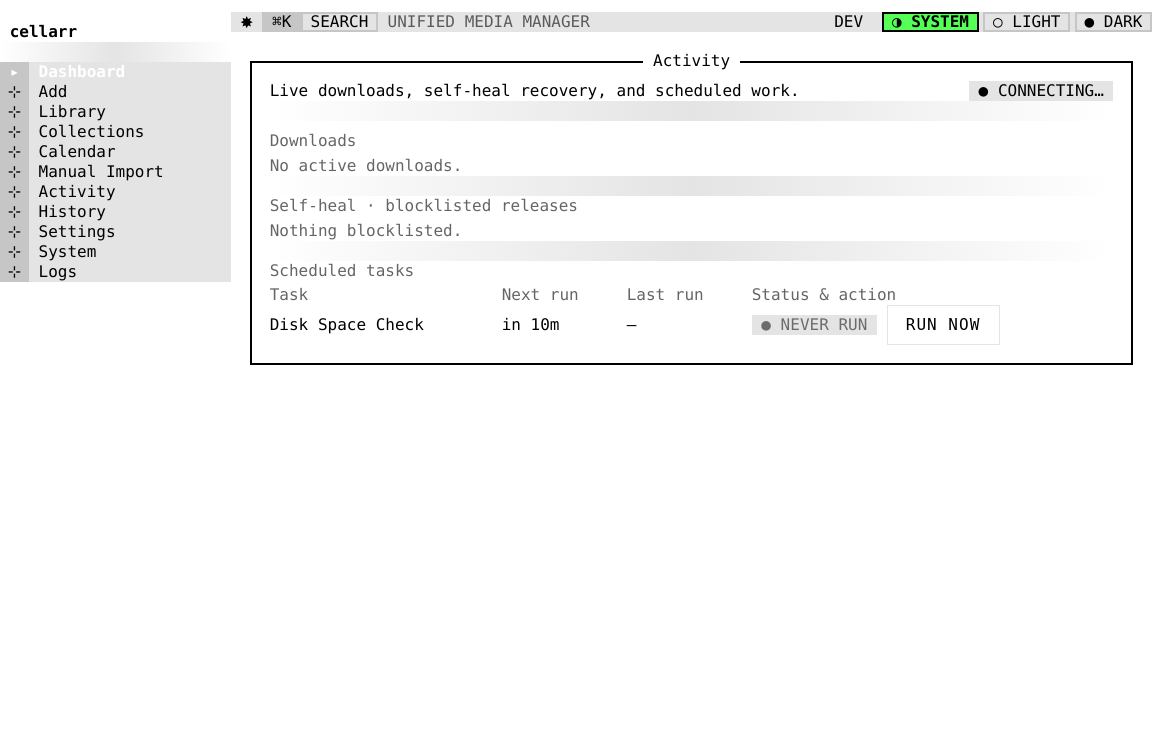
Scenario: Activity screen › runs a task via POST /command and toasts on success
The image size is (1152, 732).
Click the button "Run now".
click(943, 325)  # box [887,305,1000,345]
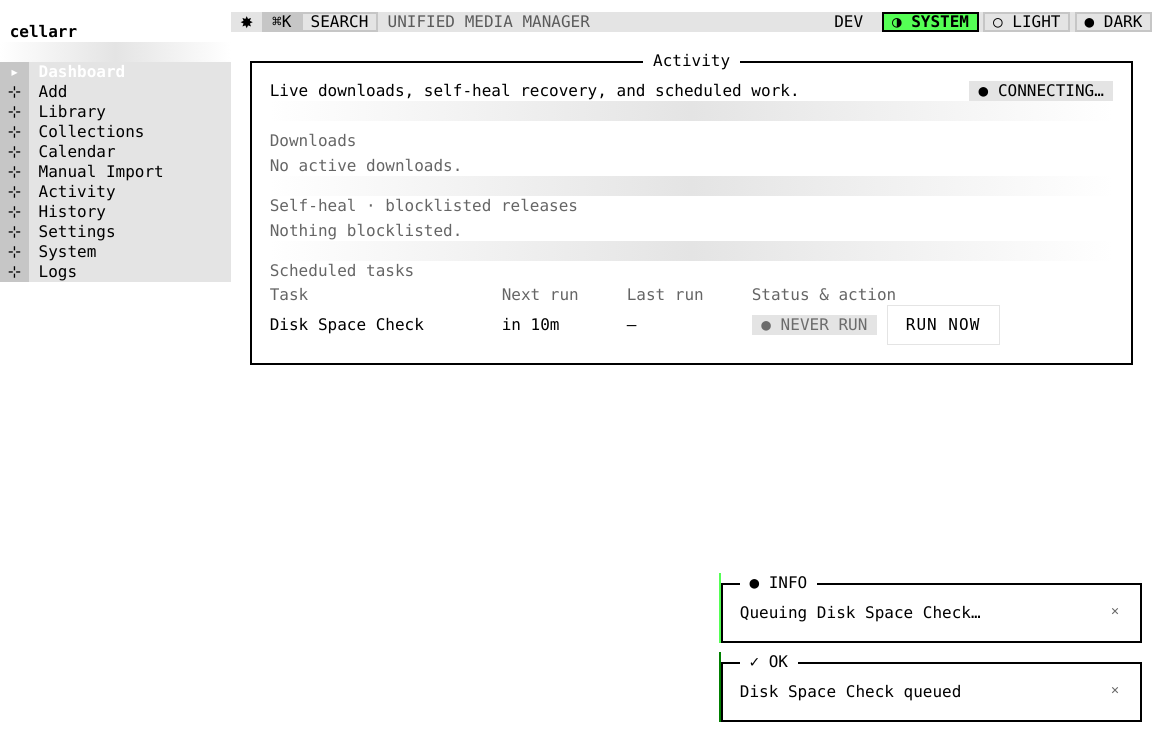
expect the text "Disk Space Check queued" is shown: met, box [740,682,961,701]
